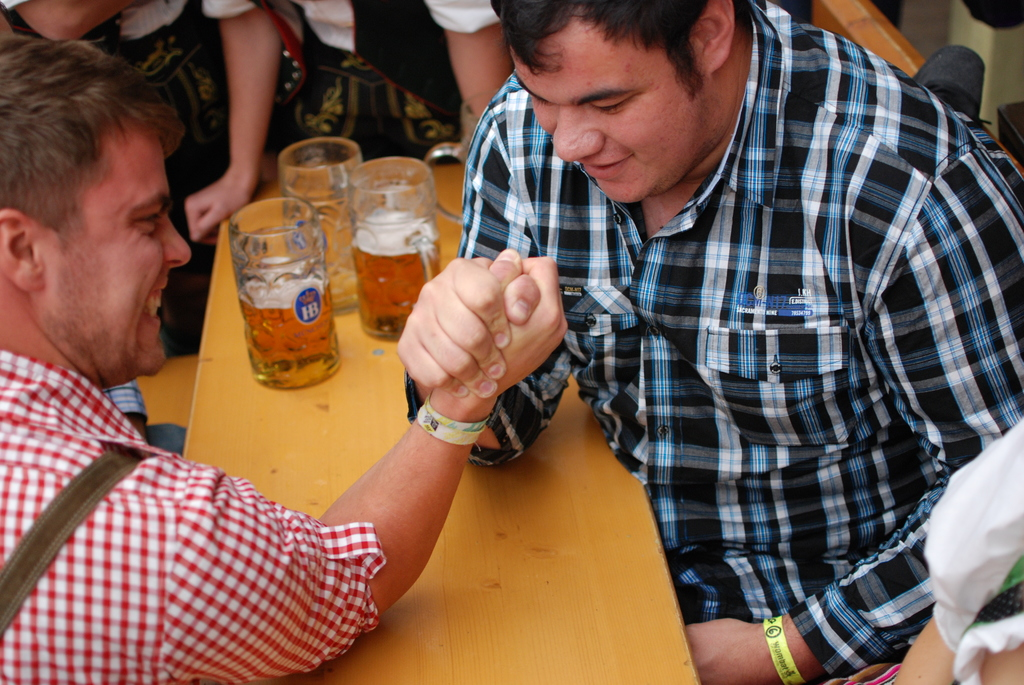Beer: (348, 210, 442, 321), (239, 259, 335, 363)
